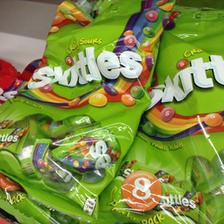Suessigkeit: (0, 88, 132, 212), (25, 3, 158, 103), (96, 121, 220, 223), (137, 8, 219, 119)
